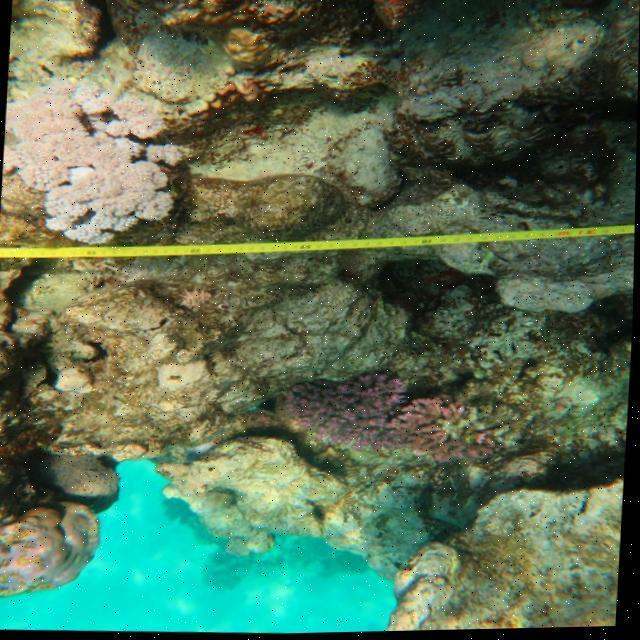Bleached Coral: (1, 51, 186, 248)
Healthy Coral: (276, 368, 462, 469)
